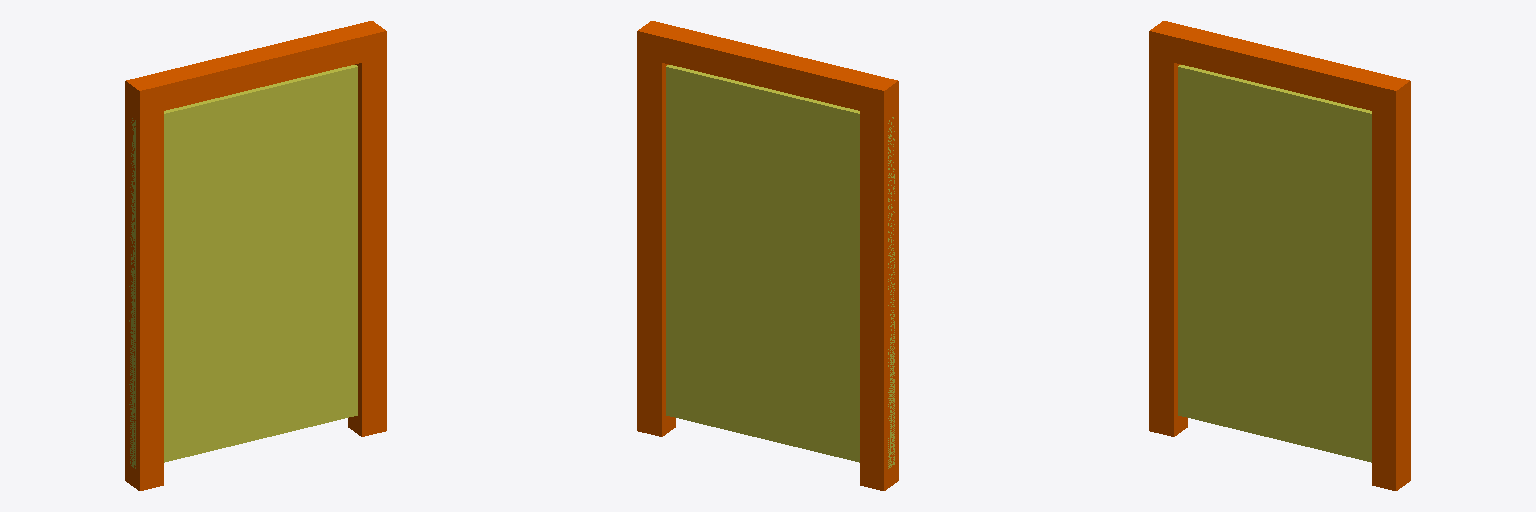
URDF robot description (urdf_door):
<?xml version="1.0" ?>
<robot name="urdf_door">
 <link name="world"/>
  <joint name="fixed" type="fixed">
    <parent link="world"/>
    <child link="baseLink"/>
    <origin xyz="0 0 0"/>
  </joint>

  <link name="baseLink">
    <inertial>
      <origin rpy="0 0 0" xyz="0 0 0.35"/>
       <mass value="1.0"/>
       <inertia ixx="0.1" ixy="0" ixz="0" 
                          iyy="0.1" iyz="0"
                                    izz="0.1"/>
    </inertial>
    <visual>
      <origin rpy="0 0 0" xyz="0.05 0 0.5"/>
      <geometry>
      <box size="0.1 0.1 1.5"/>
      </geometry>
	   <material name="framemat0">
      <color
          rgba="0.9 0.4 0. 1" />
      </material>
    </visual>
    <visual>
      <origin rpy="0 0 0" xyz="0.95 0 0.5"/>
      <geometry>
        <box size="0.1 0.1 1.5"/>
      </geometry>
	  <material name="framemat0"/>
    </visual>
    <visual>
      <origin rpy="0 0 0" xyz="0.5 0 1.25"/>
      <geometry>
        <box size="1 0.1 0.1"/>
      </geometry>
	  <material name="framemat0"/>
	  </visual>



  </link>
   <link name="childA">
    <inertial>
      <origin rpy="0 0 0" xyz="0.4 0 0.4"/>
      <mass value="1.0"/>
      <inertia ixx="0.048966669" ixy="0" ixz="0" iyy="0.046466667" iyz="0" izz="0.0041666669"/>
    </inertial>
    <visual>
      <origin rpy="0 0 0" xyz="0.4 0 0.4"/>
      <geometry>
        <box size="0.9  0.05 1.35"/>
      </geometry>
	   <material name="doormat0">
      <color rgba="0.8 0.8 0.3 1" />
      </material>

	  </visual>
     <collision>
       <origin rpy="0 0 0" xyz="0.4 0 0.4"/>
       <geometry>
         <box size="0.9  0.05 1.35"/>
       </geometry>
     </collision>

   </link>
   <joint name="joint_baseLink_childA" type="continuous">
    <parent link="baseLink"/>
    <child link="childA"/>
	<dynamics damping="1.0" friction="0.0001"/>
    <origin xyz="0.05 0 0.1"/>
		<axis xyz="0 0 1"/>
  </joint>
</robot>

--- Facts derived from the render (not from the file) ---
The picture shows the robot from 3 angles, left to right: view 1: azimuth 30°, elevation 25°; view 2: azimuth 150°, elevation 25°; view 3: azimuth 330°, elevation 25°; orthographic projection.
Robot: urdf_door — 3 links, 2 joints (1 continuous, 1 fixed); root link world; default pose: every joint at zero.
Links seen in each view (by area): view 1: childA, baseLink; view 2: childA, baseLink; view 3: childA, baseLink.
Boxes of the visible links, x1=… form: childA: x1=129, y1=65, x2=357, y2=468; baseLink: x1=125, y1=21, x2=386, y2=490; childA: x1=666, y1=65, x2=894, y2=468; baseLink: x1=637, y1=21, x2=898, y2=490; childA: x1=1178, y1=65, x2=1371, y2=462; baseLink: x1=1149, y1=21, x2=1410, y2=490.
Size in the robot's own frame: 1 by 0.1 by 1.55 metres.
Geometry: primitives only (box / cylinder / sphere), no mesh files.